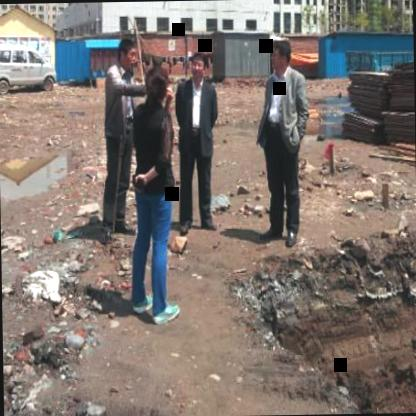head: (144, 63, 172, 107), (268, 30, 292, 73), (116, 33, 140, 70), (190, 48, 212, 80)
